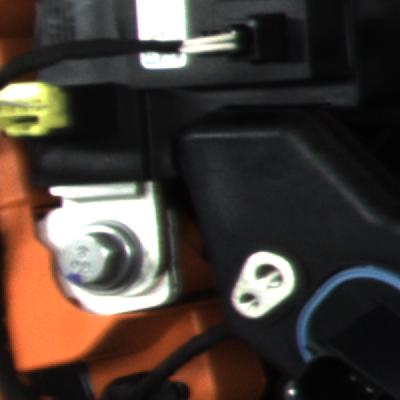nut_b: (46, 212, 149, 297)
